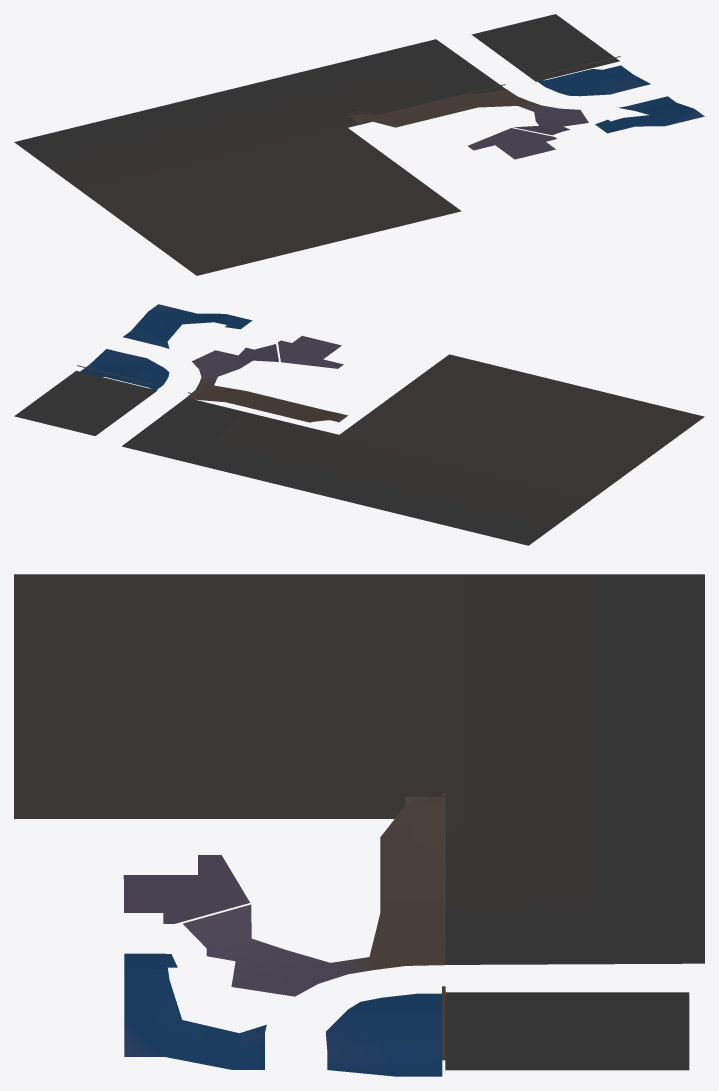
The model's file is SM_ConcreteFloor_01.fbx.
3 renders of one model, top to bottom at view 1: azimuth 30°, elevation 25°; view 2: azimuth 150°, elevation 25°; view 3: azimuth 270°, elevation 25°, orthographic. The views are drawn at different scales.
Visible parts, largest first — view 1: SM_ConcreteFloor_01; view 2: SM_ConcreteFloor_01; view 3: SM_ConcreteFloor_01.
Boxes of the visible parts, x1,y1,x2,y2 form: SM_ConcreteFloor_01: (14, 14, 704, 275); SM_ConcreteFloor_01: (14, 304, 704, 545); SM_ConcreteFloor_01: (14, 574, 704, 1076).
Size of the model in its own units: 16250 by 503 by 9572.
